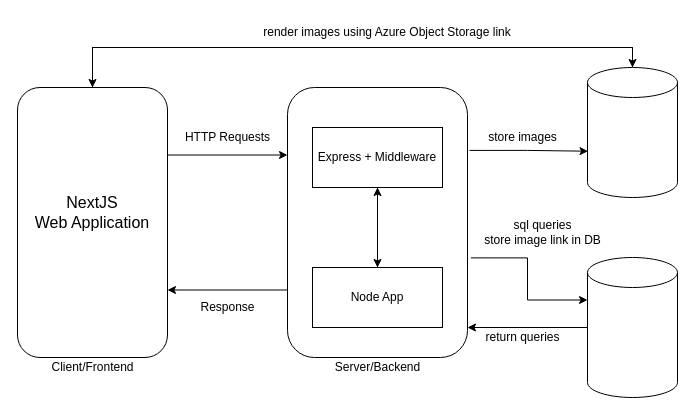
Some shapes in this 695 by 415 pixel diagram are drawn without their labels. The centre of each missing label's shape, as x and y in pixels:
"Azure Object Storage" goes at (x=632, y=132).
"Azure SQL" goes at (x=632, y=327).
